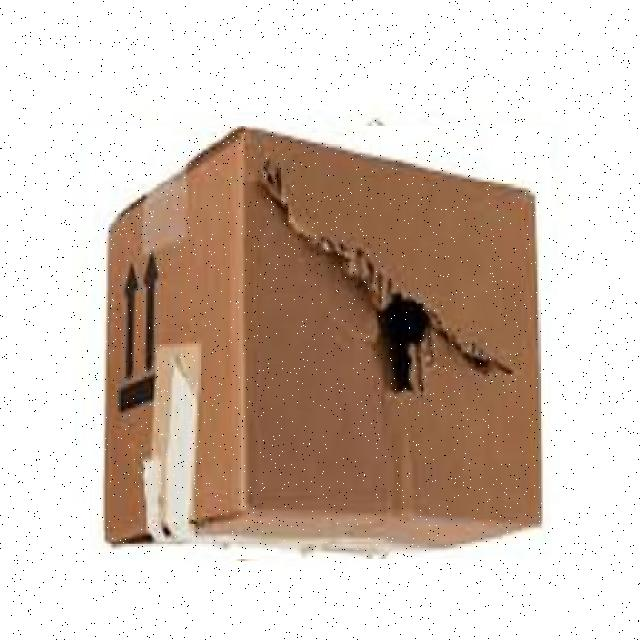defect: (89, 126, 551, 559)
